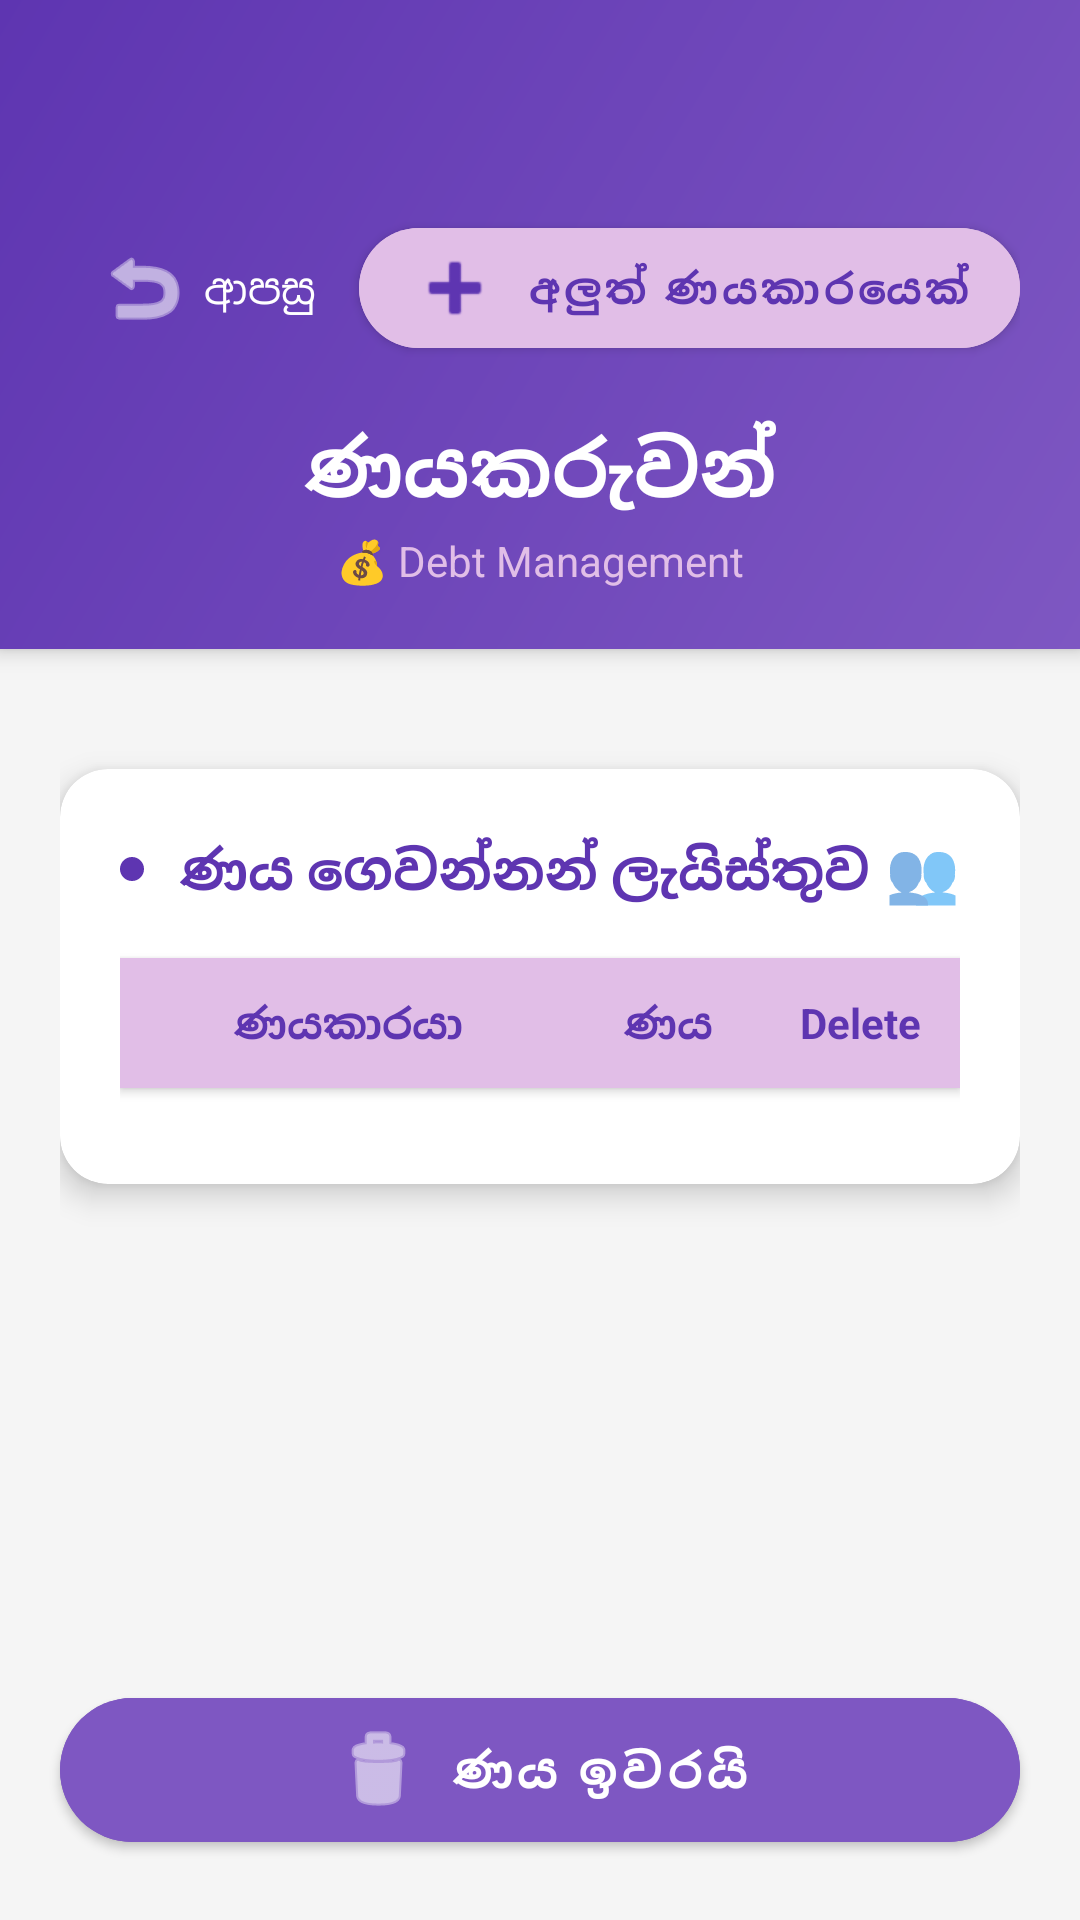

Named icons in this screenshot (1080x1920) and their bounding boxes, box=[x1, y1, x2, y2]:
dot indicator: box=[120, 857, 144, 881]
